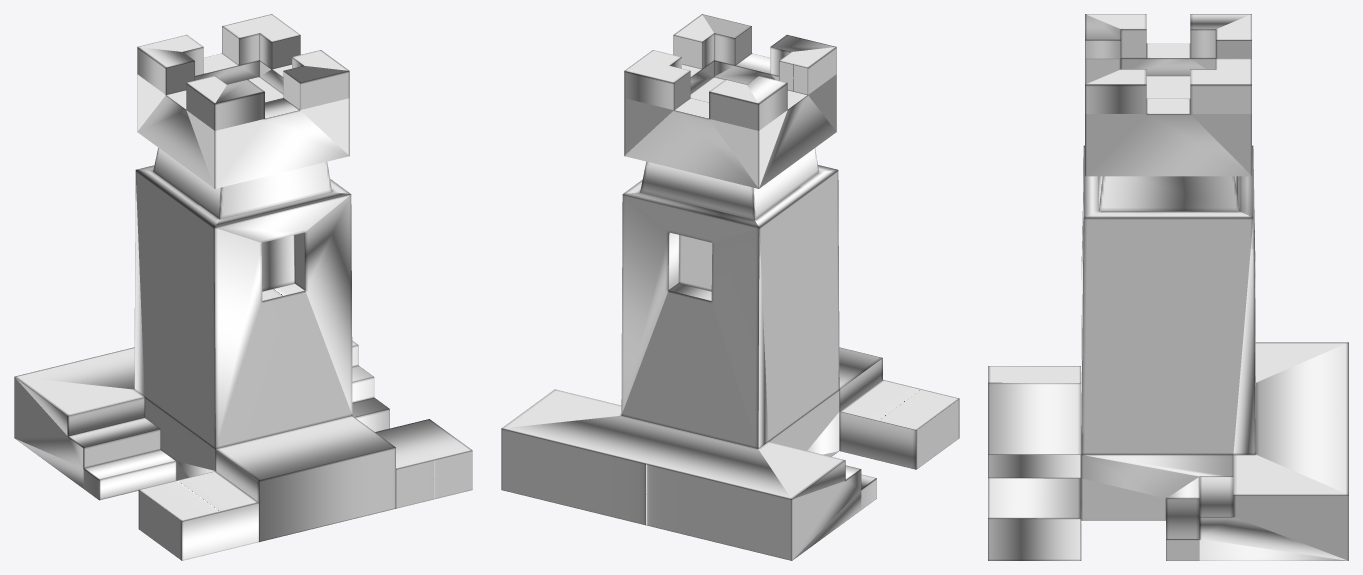
The model's file is Outpost-02.fbx.
3 renders of one model, left to right at view 1: azimuth 30°, elevation 25°; view 2: azimuth 150°, elevation 25°; view 3: azimuth 270°, elevation 25°, orthographic. The views are drawn at different scales.
Visible parts, largest first — view 1: Outpost_02; view 2: Outpost_02; view 3: Outpost_02.
Part boxes in pixels (left/top/right/bottom): Outpost_02: left=14, top=14, right=472, bottom=560; Outpost_02: left=501, top=14, right=959, bottom=560; Outpost_02: left=988, top=14, right=1348, bottom=560.
Bounding box in the file's own units: 2 × 2.66 × 2.
